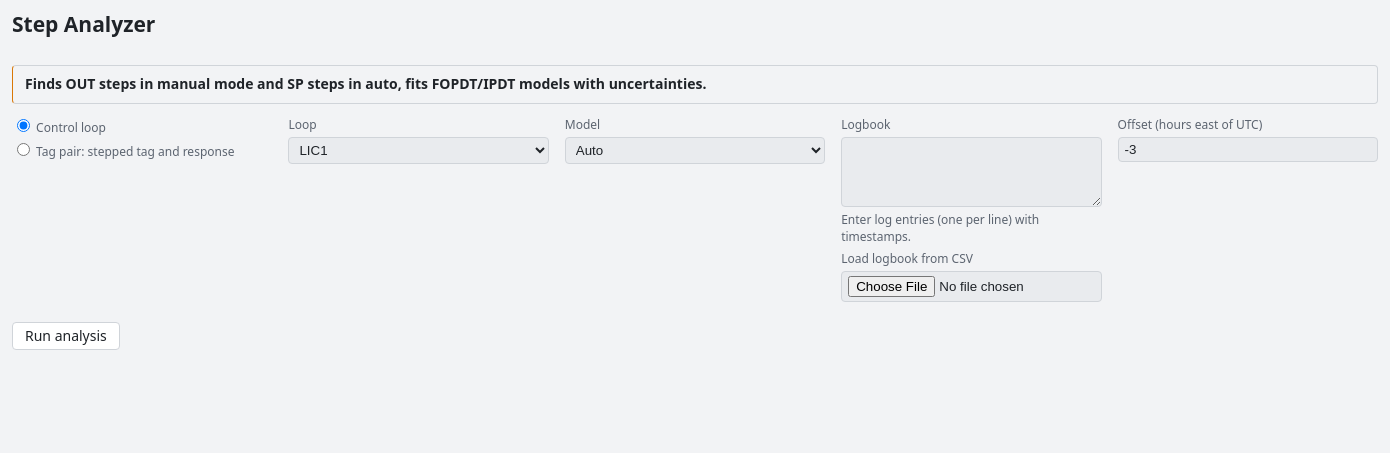
Test case: stepsTarget_ target choice › stepsTarget_ posts driver and output without a loop in tag mode
The width and height of the screenshot is (1390, 453).
Click the radio button labelled "Tag pair: stepped tag and response" at (24, 150), box [17, 143, 30, 156]
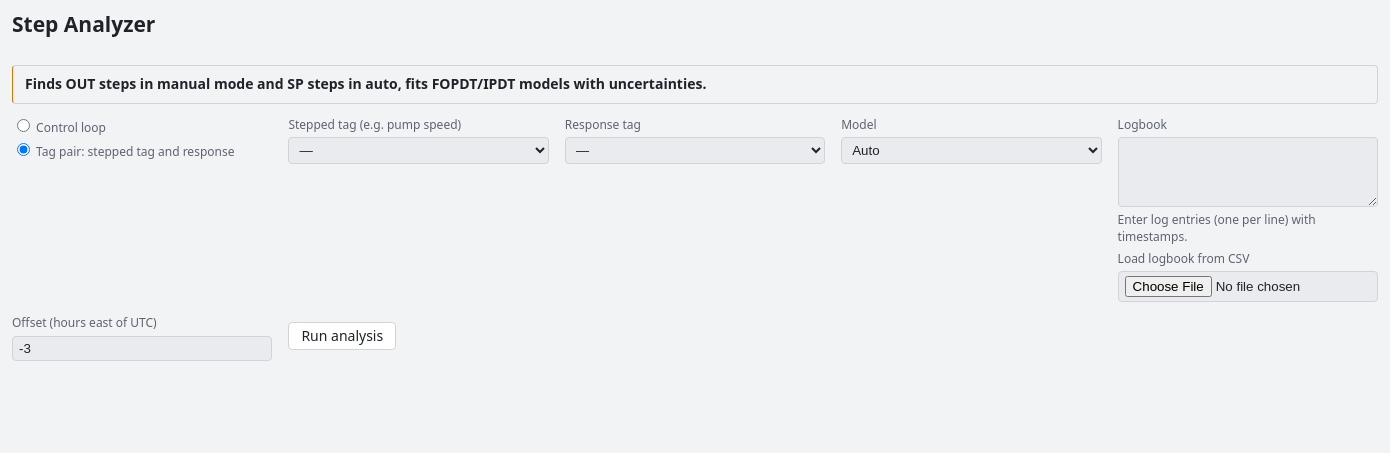
Select "PUMP_SPD" in the dropdown labelled "Stepped tag (e.g. pump speed)" at (419, 150), box [288, 137, 549, 164]
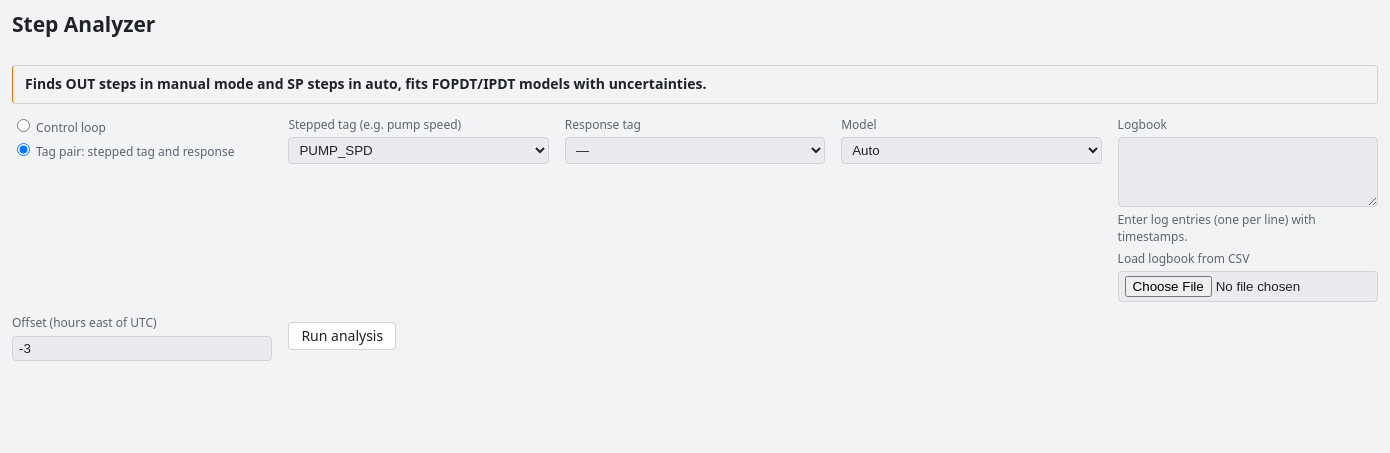
Select "FIT_101" in the dropdown labelled "Response tag" at (695, 150), box [565, 137, 825, 164]
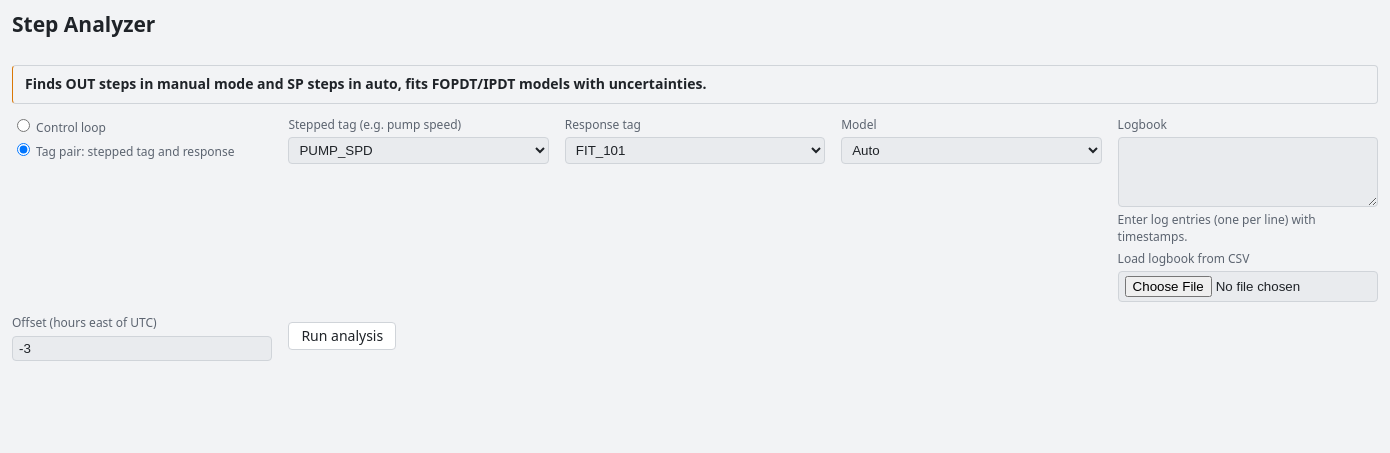
Click the button "Run analysis" at (342, 336), box [288, 322, 396, 350]
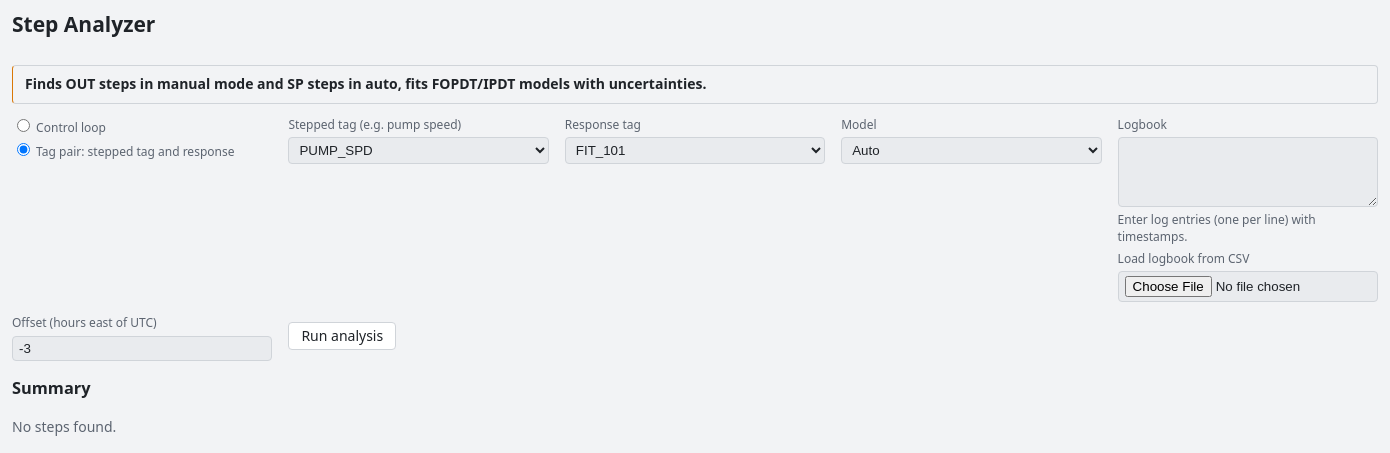
Expected: the text "No steps found." is shown, [12, 417, 116, 436]
